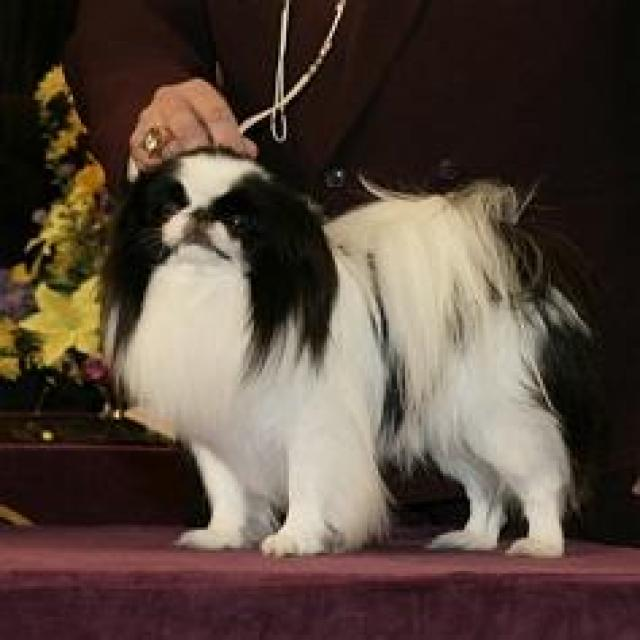husky: (94, 146, 588, 555)
